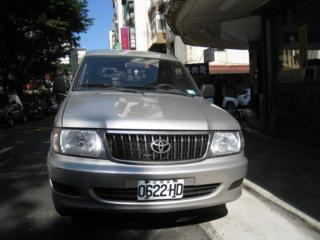plate: (135, 176, 186, 202)
